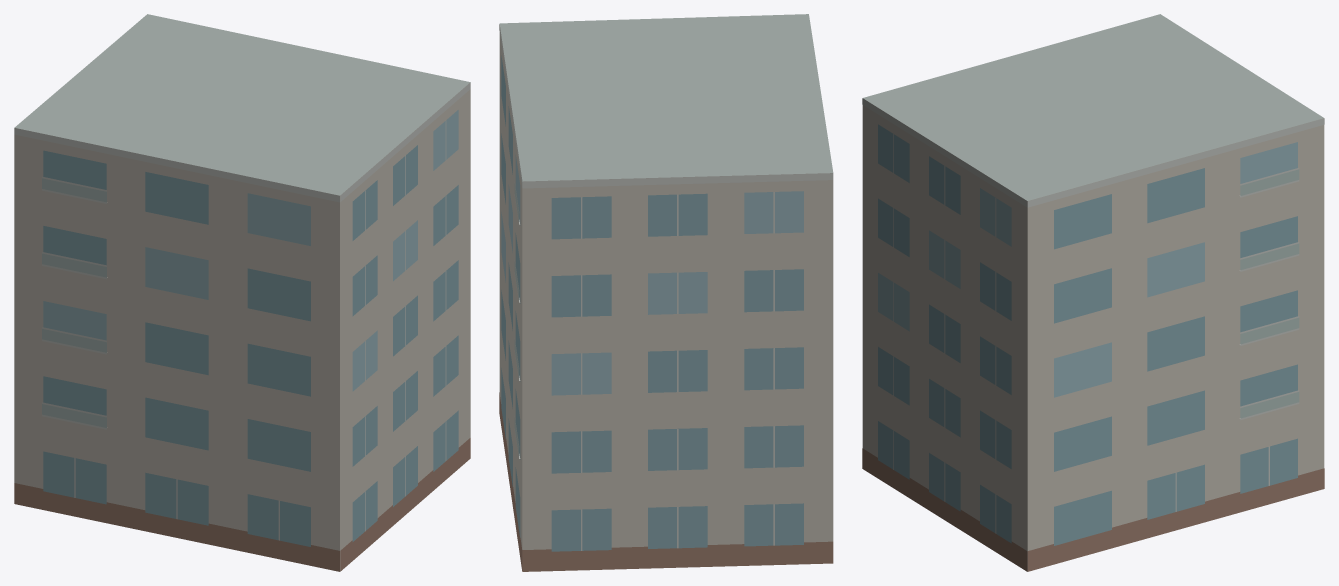
File: survey-upis-32887633.glb
The picture shows the model from 3 angles, left to right: view 1: azimuth 30°, elevation 25°; view 2: azimuth 150°, elevation 25°; view 3: azimuth 270°, elevation 25°; orthographic projection. The views are drawn at different scales.
Parts seen in each view (by area): view 1: survey-upis-32887633.tmp; view 2: survey-upis-32887633.tmp; view 3: survey-upis-32887633.tmp.
Part boxes in pixels (x1,y1,x2,y2): survey-upis-32887633.tmp: [14, 14, 470, 571]; survey-upis-32887633.tmp: [499, 14, 833, 571]; survey-upis-32887633.tmp: [862, 14, 1324, 571].
Size of the model in its own units: 14.78 by 13.65 by 15.42.
